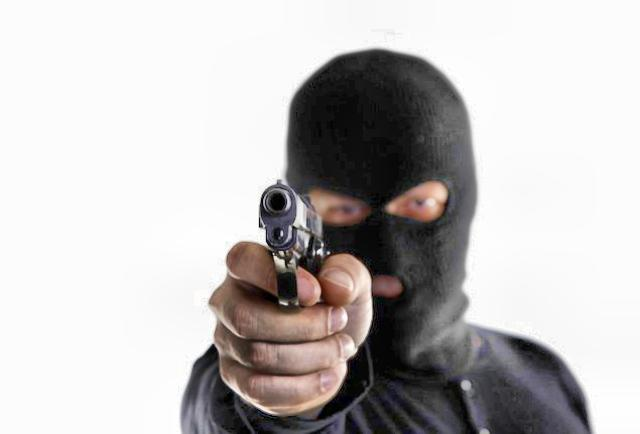pistol: (258, 176, 334, 312)
